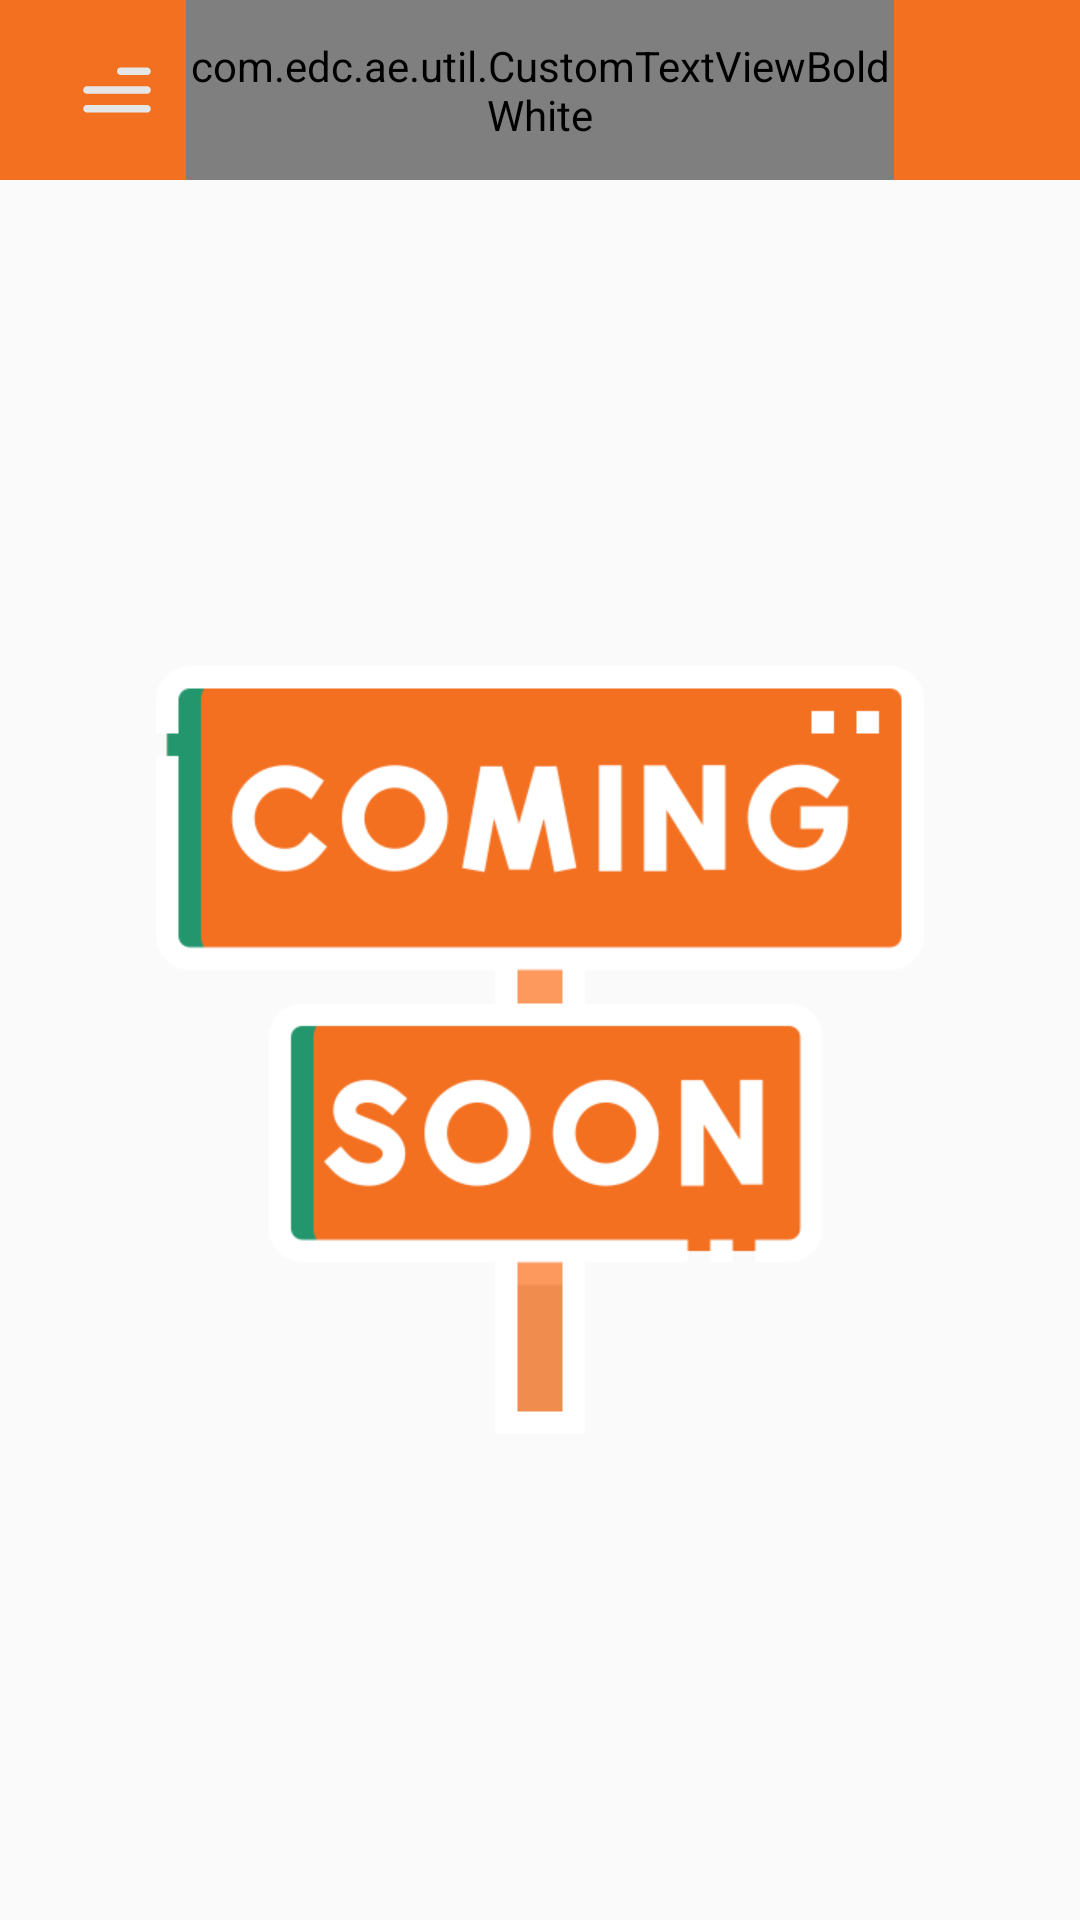

Locate icon controls on the screen. Image size 1080*1920, boxes as (x1, y1, x2, y2).
nav: (83, 67, 151, 113)
